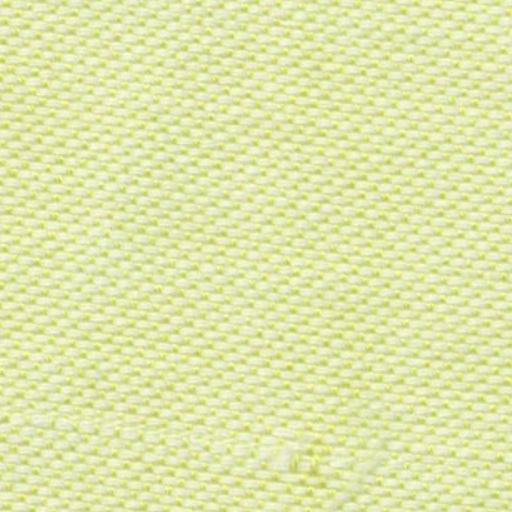DuanSha: (252, 422, 366, 487)
